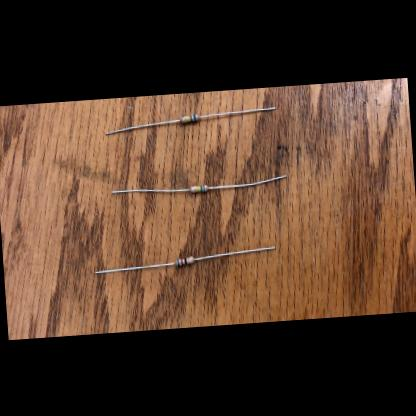resistor: (174, 256, 194, 264), (180, 113, 199, 121), (189, 184, 208, 191)
wire: (194, 245, 276, 259), (104, 119, 180, 134), (209, 174, 287, 188), (95, 261, 175, 273), (200, 106, 276, 117), (112, 184, 189, 194)
